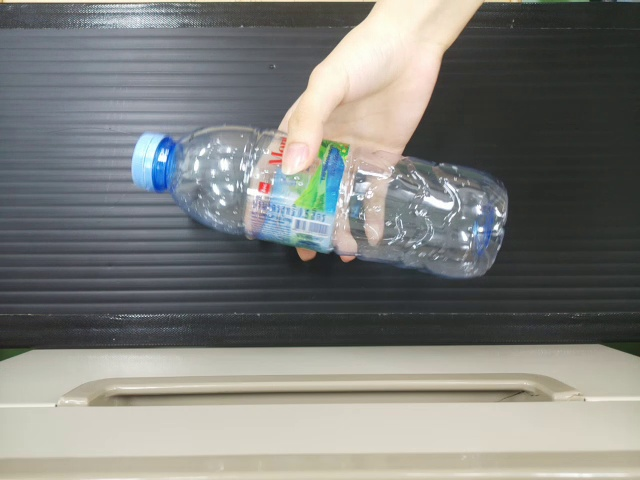bottle: (117, 110, 509, 283)
